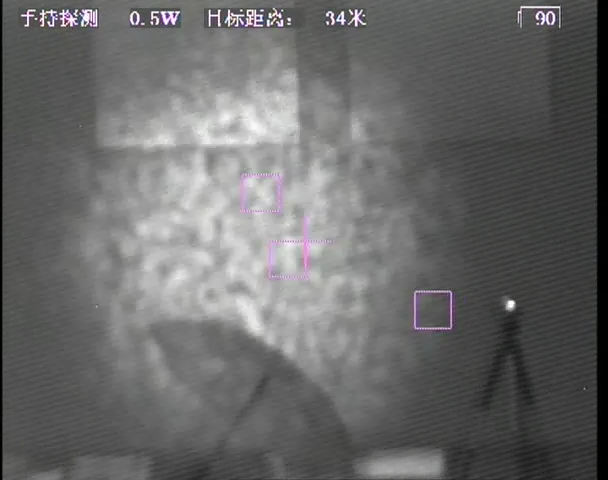my: (503, 296, 518, 310)
